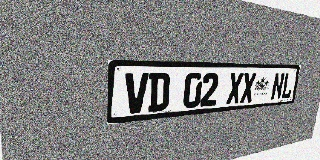0: (183, 73, 203, 109)
2: (200, 73, 219, 107)
D: (148, 73, 170, 112)
L: (281, 73, 295, 99)
N: (270, 73, 285, 100)
V: (124, 73, 149, 114)
X: (226, 73, 244, 104), (240, 73, 256, 103)
